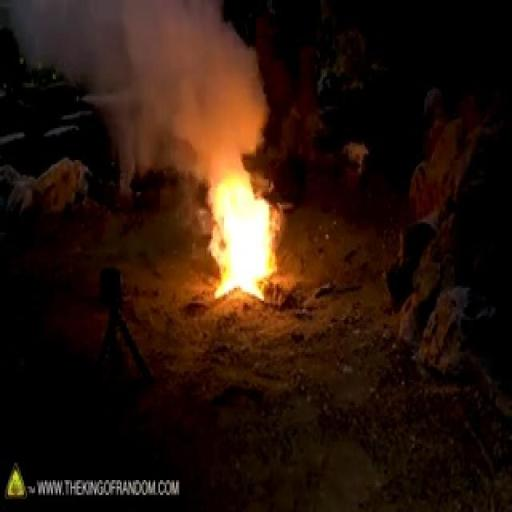smoke: (210, 136, 284, 303)
